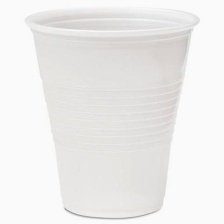glass: (25, 1, 202, 224)
